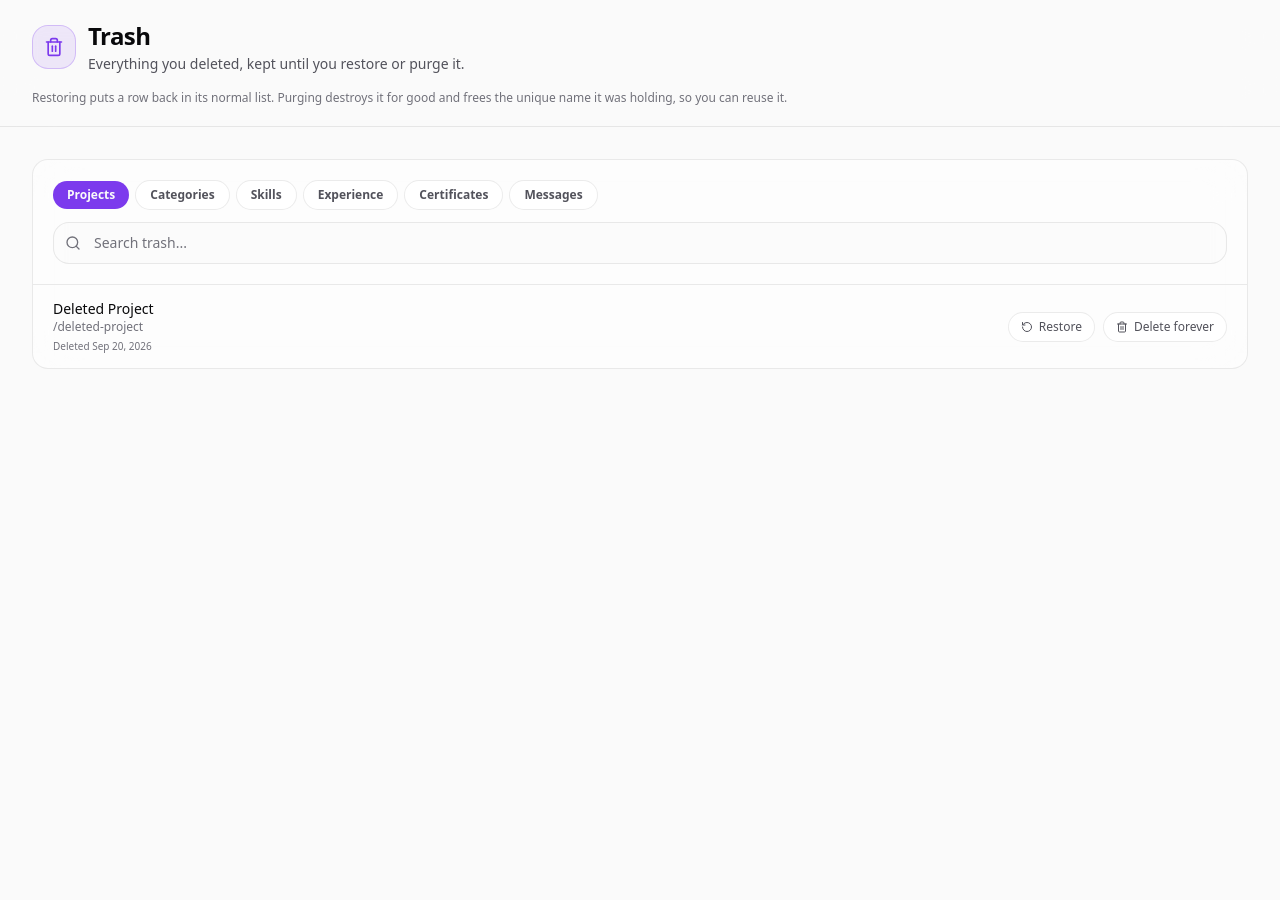
Scenario: TrashList › purge tidak jalan sebelum dikonfirmasi
The image size is (1280, 900).
Click the button "Delete forever". click: point(1165, 326)
box: [1103, 312, 1227, 342]
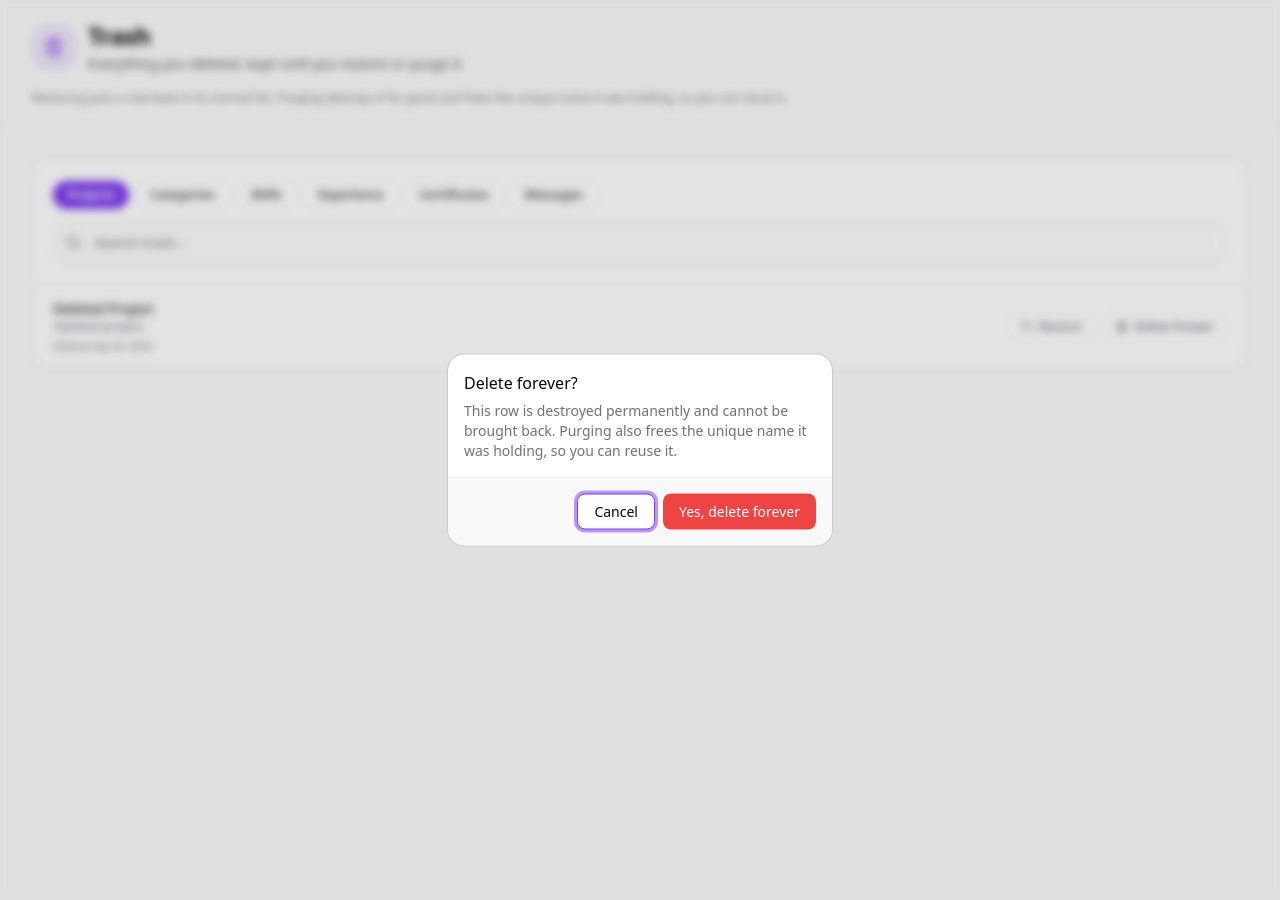
Expected: the heading "Delete forever?" is shown, [464, 370, 578, 394]
